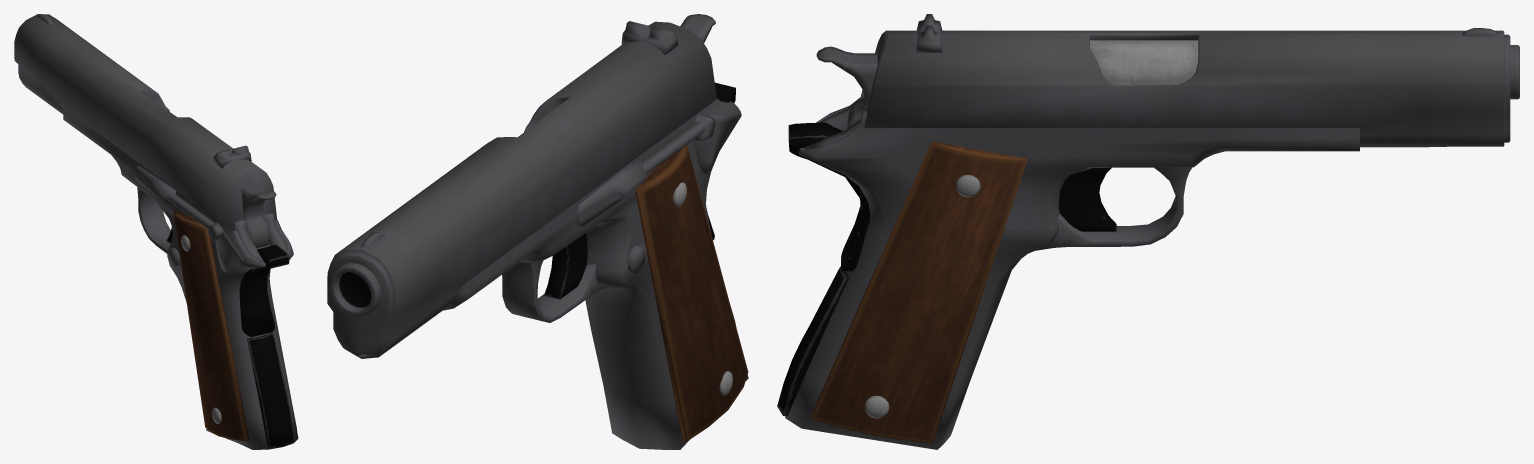
File: pistol_1911.glb
The picture shows the model from 3 angles, left to right: view 1: azimuth 30°, elevation 25°; view 2: azimuth 150°, elevation 25°; view 3: azimuth 270°, elevation 25°; orthographic projection. The views are drawn at different scales.
Visible parts, largest first — view 1: g (×13); view 2: g (×11); view 3: g (×10).
Boxes of the visible parts, x1,y1,x2,y2 form: g (×13): (14, 14, 298, 449); g (×11): (327, 14, 748, 449); g (×10): (777, 14, 1510, 449).
Size of the model in its own units: 0.3122 by 1.22 by 2.
Materials: 1 (1 with a texture image).
